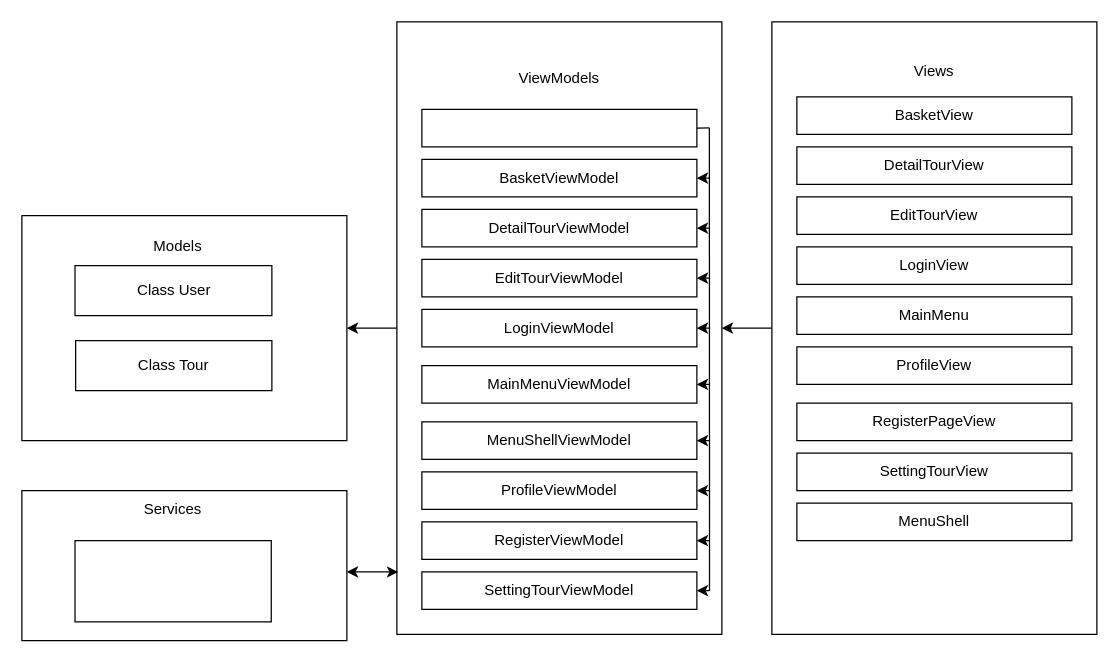
This 1119x663 diagram has some shape labels left out. Here are the shapes that lost their labels. From the top down, the centre of each, then its label:
At [559,127]: "BaseViewModel".
At [172,580]: "DatabaseService".
